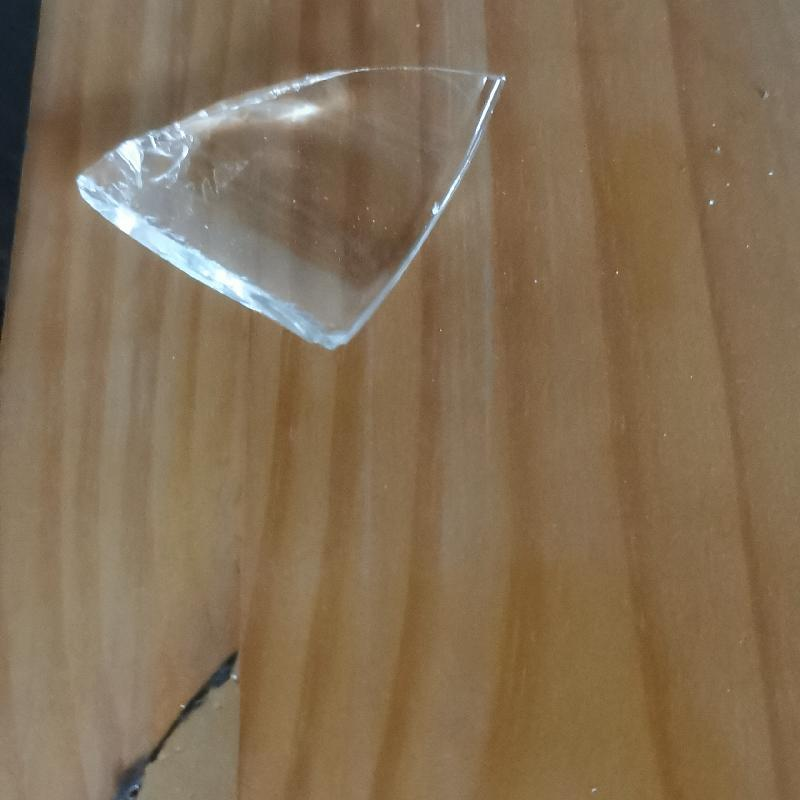glass: (68, 59, 515, 352)
